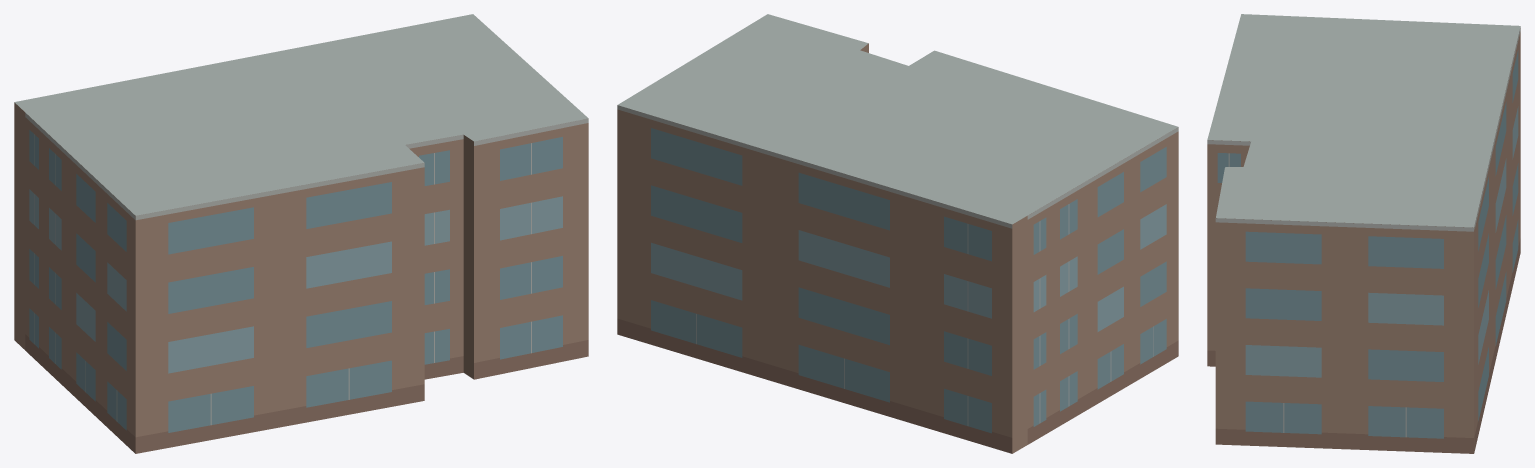
File: survey-upis-32491352.glb
3 renders of one model, left to right at view 1: azimuth 30°, elevation 25°; view 2: azimuth 150°, elevation 25°; view 3: azimuth 270°, elevation 25°, orthographic. The views are drawn at different scales.
Visible parts, largest first — view 1: survey-upis-32491352.tmp; view 2: survey-upis-32491352.tmp; view 3: survey-upis-32491352.tmp.
Boxes of the visible parts, x1,y1,x2,y2 form: survey-upis-32491352.tmp: [14, 14, 588, 453]; survey-upis-32491352.tmp: [617, 14, 1178, 453]; survey-upis-32491352.tmp: [1207, 14, 1520, 453].
Size of the model in its own units: 26.09 by 12.9 by 16.19.
